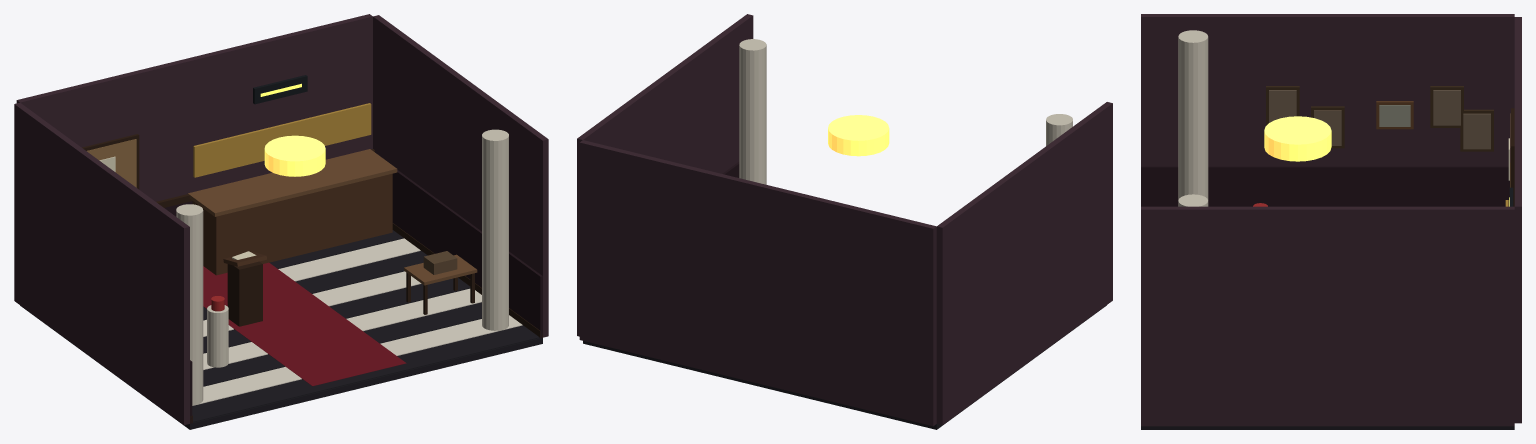
The model's file is curtain_foyer.glb.
3 renders of one model, left to right at view 1: azimuth 30°, elevation 25°; view 2: azimuth 150°, elevation 25°; view 3: azimuth 270°, elevation 25°, orthographic. The views are drawn at different scales.
Visible parts, largest first — view 1: WallLeft, WallBack, WallRight, CounterBody, RedRunner, BandRight, Pillar1, CounterTop, Plank0, Grille, Plank1, Plank2 (+16 smaller); view 2: WallBack, WallLeft, WallRight, Pillar1, Pendant, Floor, Pillar0; view 3: WallRight, WallLeft, BandLeft, Pillar0, WallBack, Pendant, Floor, HImg3, HImg2, HImg0, P_h_playbilli, HImg1 (+4 smaller).
Part boxes in pixels (box(x1,y1,x2,y2)): WallLeft: box(14, 102, 189, 425); WallBack: box(16, 14, 372, 201); WallRight: box(373, 15, 548, 337); CounterBody: box(192, 173, 392, 275); RedRunner: box(203, 262, 406, 386); BandRight: box(392, 170, 542, 338); Pillar1: box(482, 129, 508, 331); CounterTop: box(187, 149, 397, 216); Plank0: box(192, 325, 539, 422); Grille: box(193, 103, 371, 177); Plank1: box(200, 315, 522, 403); Plank2: box(203, 302, 481, 386); WallBack: box(579, 140, 936, 426); WallLeft: box(936, 102, 1112, 424); WallRight: box(577, 14, 753, 336); Pillar1: box(739, 39, 766, 184); Pendant: box(828, 115, 889, 156); Floor: box(583, 305, 1106, 429); Pillar0: box(1046, 114, 1072, 145); WallRight: box(1141, 206, 1514, 426); WallLeft: box(1141, 14, 1514, 165); BandLeft: box(1141, 166, 1509, 206); Pillar0: box(1178, 30, 1208, 200); WallBack: box(1514, 17, 1521, 423); Pendant: box(1264, 116, 1331, 161); Floor: box(1141, 426, 1514, 429); HImg3: box(1463, 113, 1490, 149); HImg2: box(1433, 90, 1460, 125); HImg0: box(1269, 90, 1296, 122); P_h_playbilli: box(1379, 105, 1410, 126); HImg1: box(1314, 110, 1341, 145).
Bounding box in the file's own units: 6.2 × 3.3 × 5.1.
